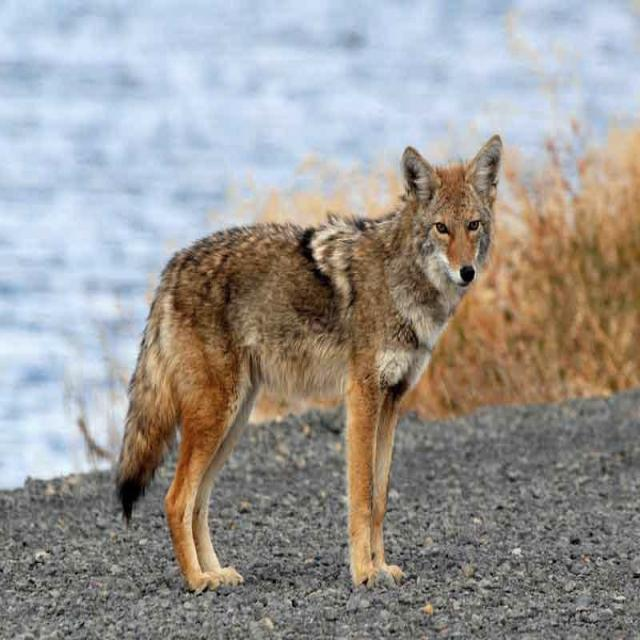coyote: (117, 135, 502, 590)
